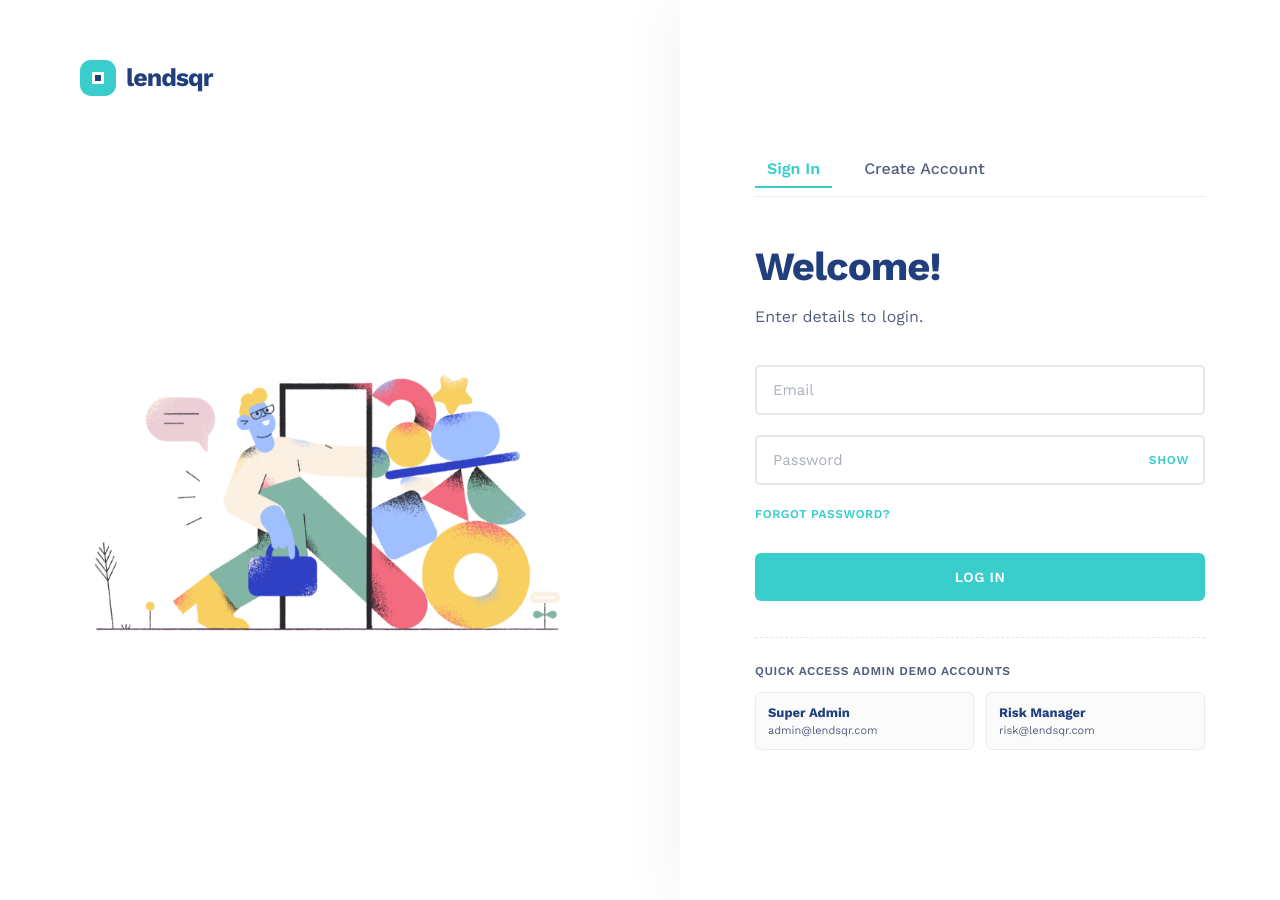
Test: Login Page › shows error when fields are empty
The image size is (1280, 900).
What coordinates should you click on to do the following:
click the button "LOG IN"
I would click on:
 (980, 576)
Its box is top-left (755, 552), bottom-right (1205, 600).
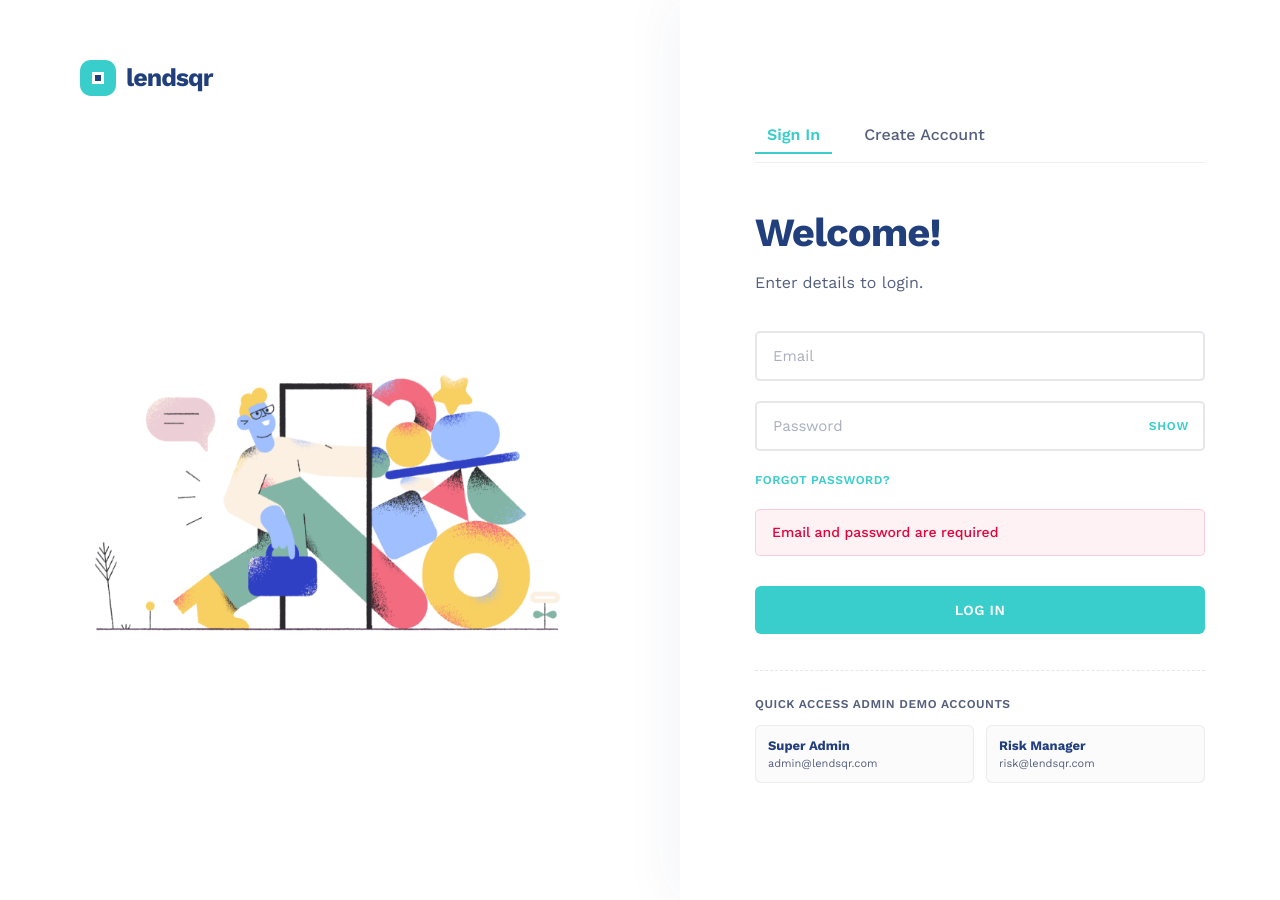
Expected: the text "Email and password are required" is shown, top-left (755, 509), bottom-right (1205, 556)
